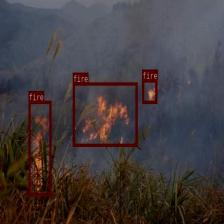fire: (72, 82, 137, 146), (28, 100, 51, 196), (142, 79, 157, 103)
